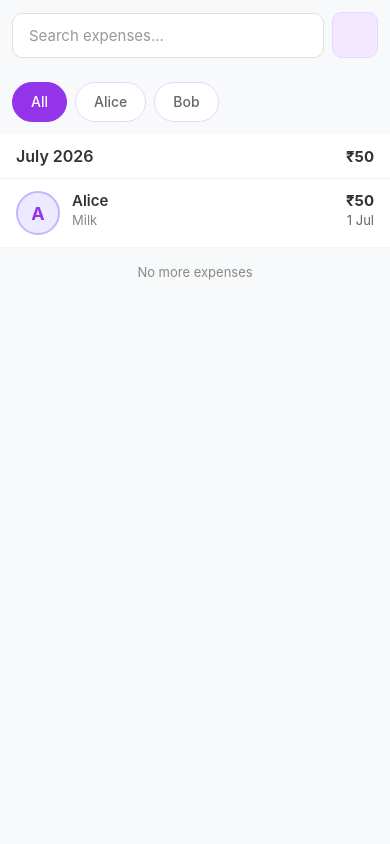
ExpensesScreen edit/delete › shows the pencil to admins on unsettled expenses
Click the text "Milk" at (85, 220), box top-left (72, 212), bottom-right (97, 228)
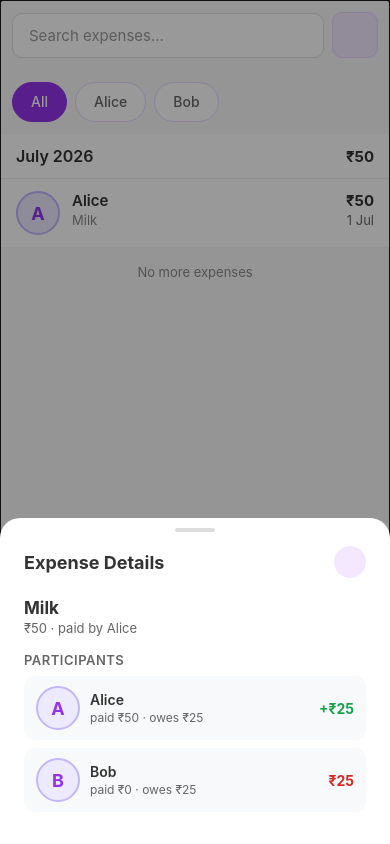
expect the text "₹50 · paid by Alice" is shown: met, box top-left (24, 620), bottom-right (137, 636)
